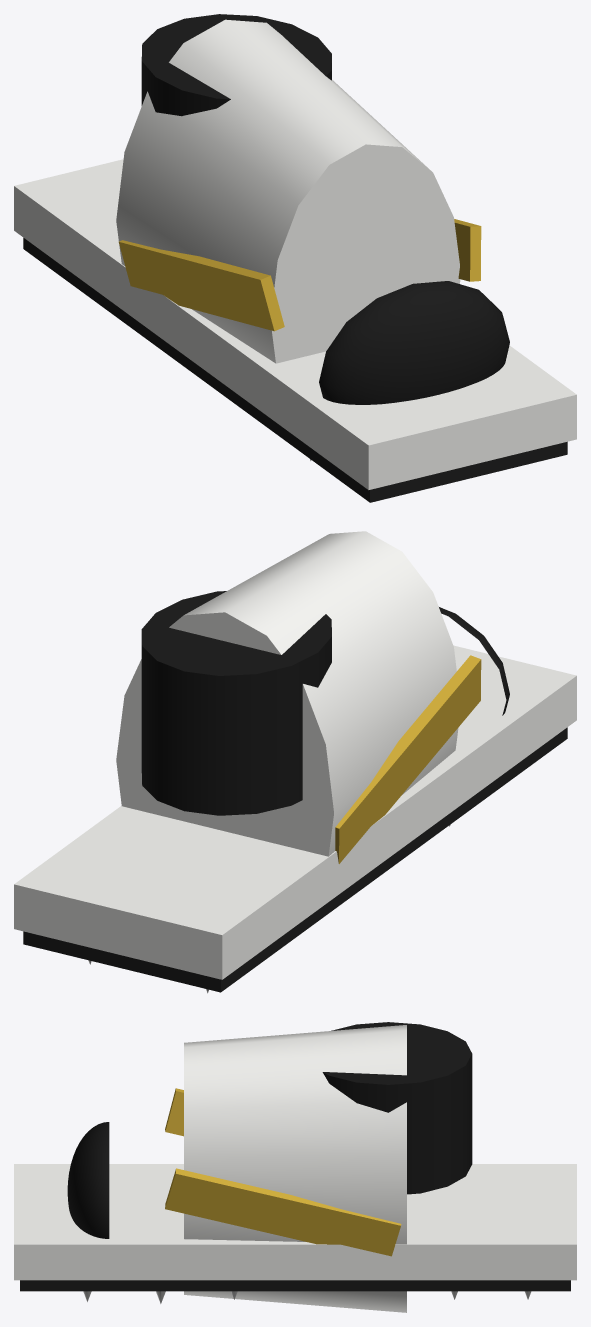
Rendered from cricket_shoe.glb.
3 renders of one model, top to bottom at view 1: azimuth 30°, elevation 25°; view 2: azimuth 150°, elevation 25°; view 3: azimuth 270°, elevation 25°, orthographic. The views are drawn at different scales.
Parts seen in each view (by area): view 1: CricketShoe; view 2: CricketShoe; view 3: CricketShoe.
Part boxes in pixels (x1,y1,x2,y2): CricketShoe: (14, 14, 576, 502); CricketShoe: (14, 531, 576, 993); CricketShoe: (14, 1022, 576, 1312).
Size of the model in its own units: 0.9504 by 1.44 by 2.64.
